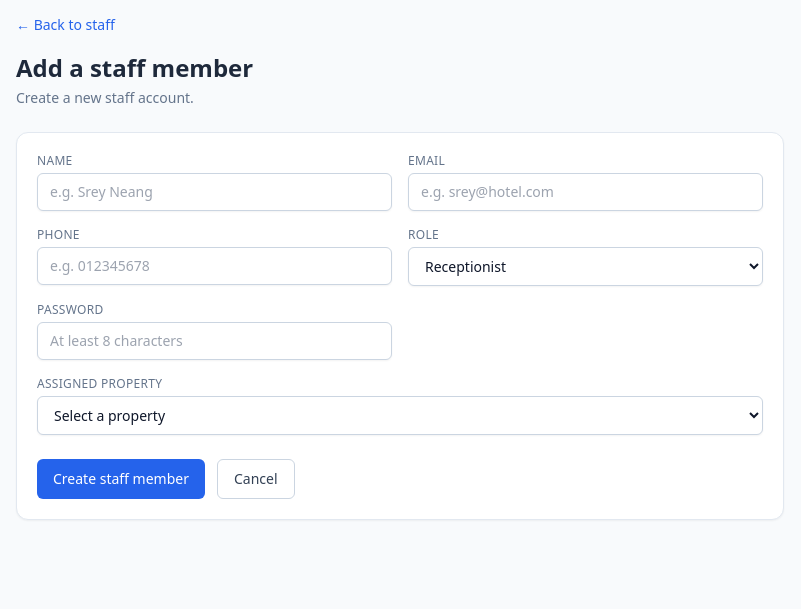
Test: Staff form page › shows inline validation errors for an empty create form
Click the button "Create staff member" at (121, 479), box [37,459,205,499]
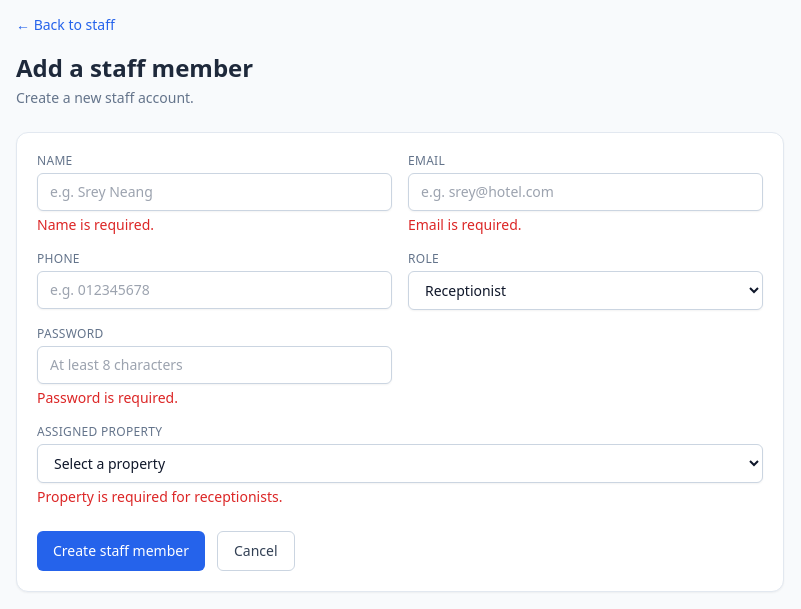
Expected: the text "Name is required." is shown, [37,215,154,234]
Expected: the text "Email is required." is shown, [408,215,522,234]
Expected: the text "Password is required." is shown, [37,388,178,407]
